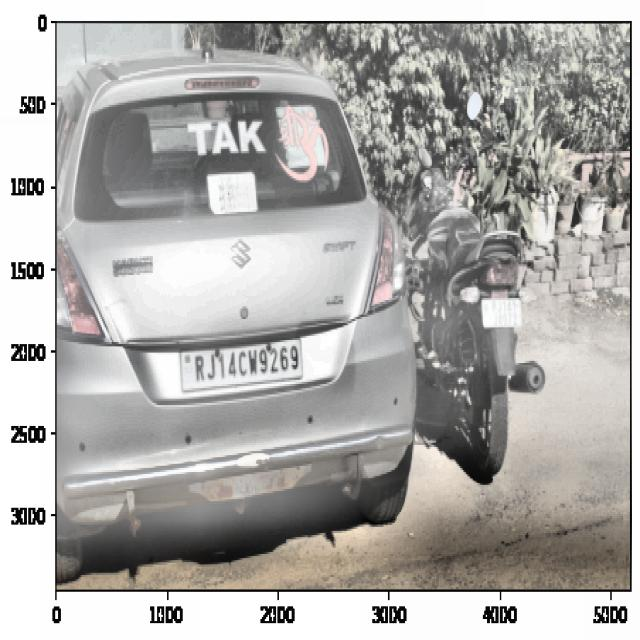license_plate: (190, 341, 302, 386)
